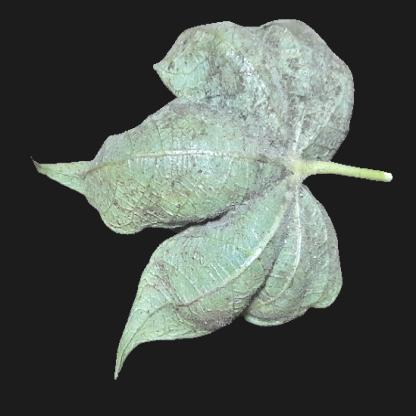curl_stage2: (125, 284, 191, 354), (107, 137, 204, 177), (180, 253, 246, 309), (250, 224, 290, 302)
sooty: (241, 56, 351, 168), (210, 134, 277, 242), (170, 35, 240, 131), (286, 203, 336, 277)
